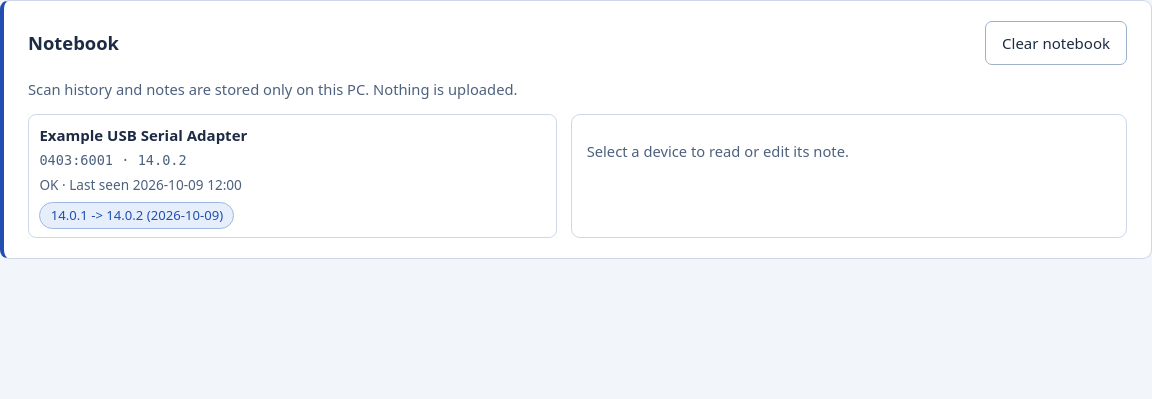
Test case: NotebookView — notes › selects a device with the keyboard, edits the note and saves it with the exact key and text
The image size is (1152, 399).
Press Enter
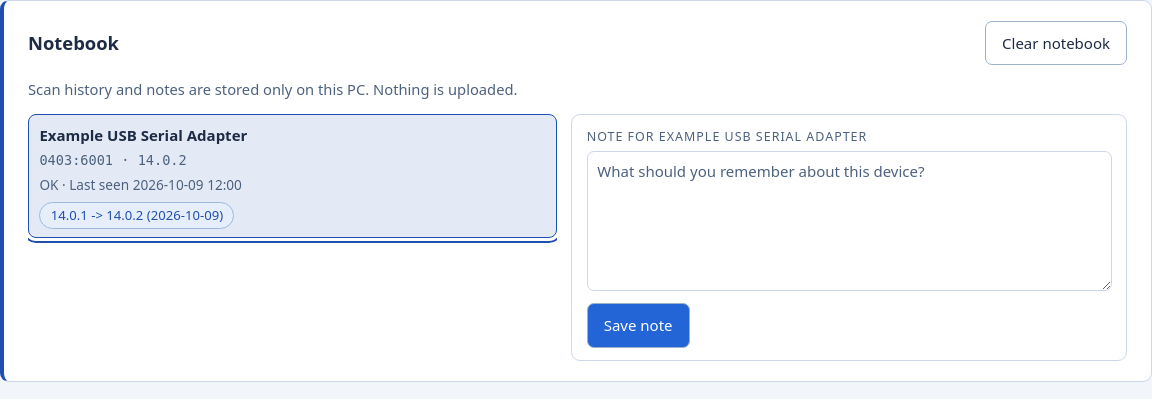
Check: the text box labelled "Note for Example USB Serial Adapter" is empty
Type "Firmware reflashed on the bench" into the text box labelled "Note for Example USB Serial Adapter".
click(849, 221); type("Firmware reflashed on the bench")  # box [587,151,1112,291]
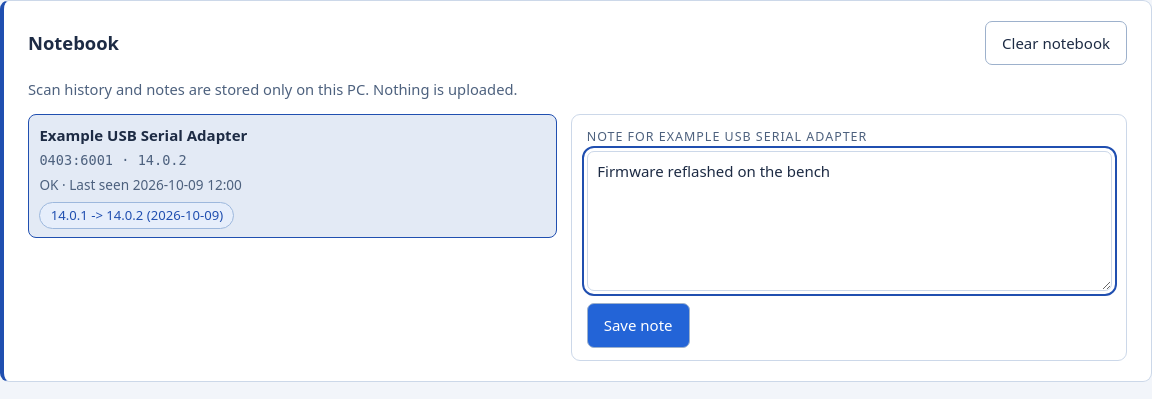
Click the button "Save note".
click(638, 325)  # box [587,303,690,348]
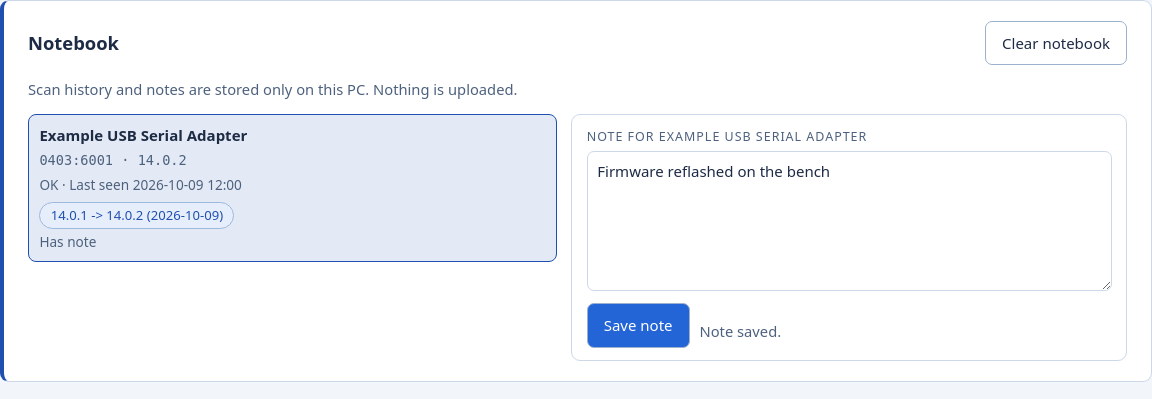
Check: the text "Note saved." is shown, box [700,319,781,344]
Check: the button "Example USB Serial Adapter" shows "Has note", box [28,114,557,262]
